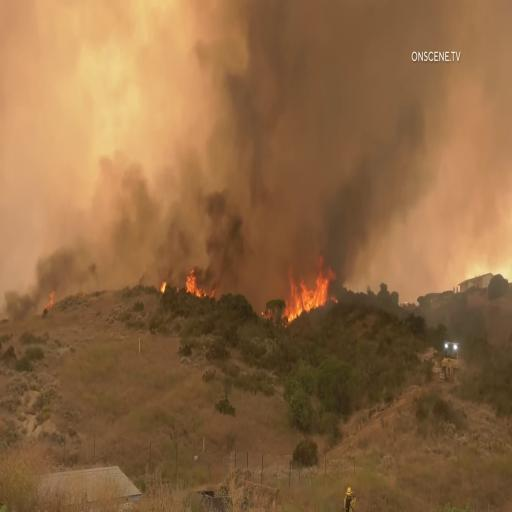fire: (287, 263, 337, 317), (183, 273, 207, 305)
smoke: (208, 63, 250, 278)
